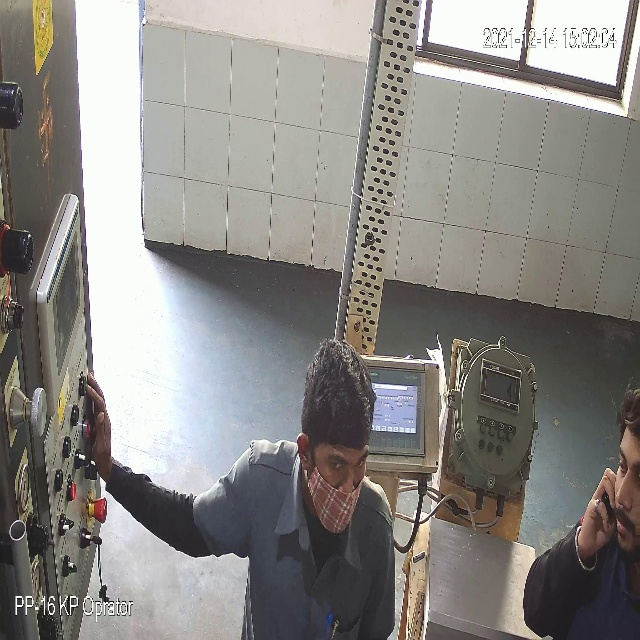Sin_gafas: (314, 445, 370, 485)
